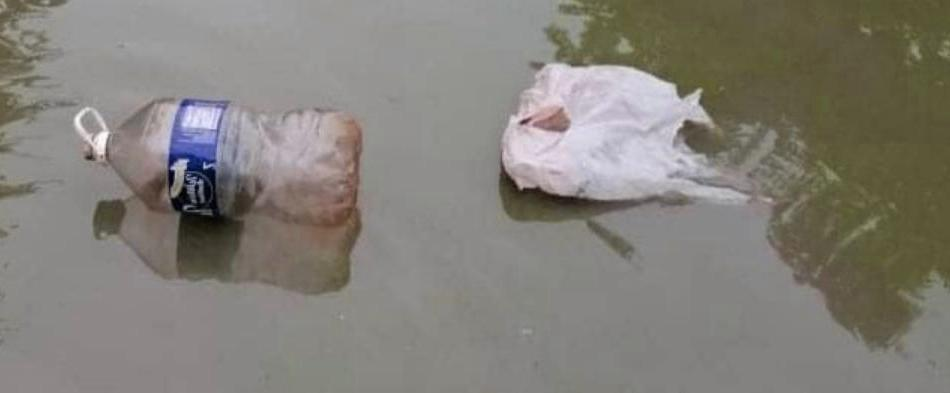Plastic: (71, 97, 366, 228)
Trash: (499, 62, 744, 209)
